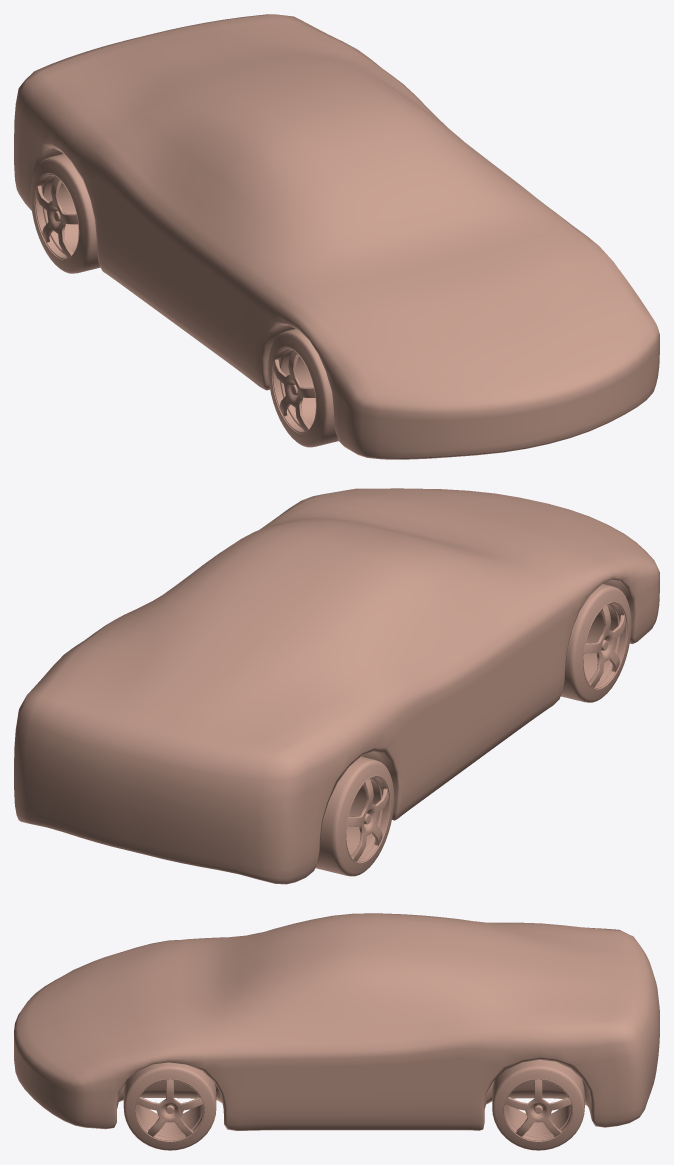
Rendered from Normal Car.fbx.
The picture shows the model from 3 angles, top to bottom: view 1: azimuth 30°, elevation 25°; view 2: azimuth 150°, elevation 25°; view 3: azimuth 270°, elevation 25°; orthographic projection. The views are drawn at different scales.
Visible parts, largest first — view 1: Car:carBody, Car:wheels; view 2: Car:carBody, Car:wheels; view 3: Car:carBody, Car:wheels.
Part boxes in pixels (box(x1,y1,x2,y2)): Car:carBody: box(14, 14, 659, 459); Car:wheels: box(30, 154, 338, 447); Car:carBody: box(14, 488, 659, 884); Car:wheels: box(315, 584, 631, 876); Car:carBody: box(14, 913, 659, 1130); Car:wheels: box(123, 1059, 584, 1150).
Bounding box in the file's own units: 202 × 123 × 457.
